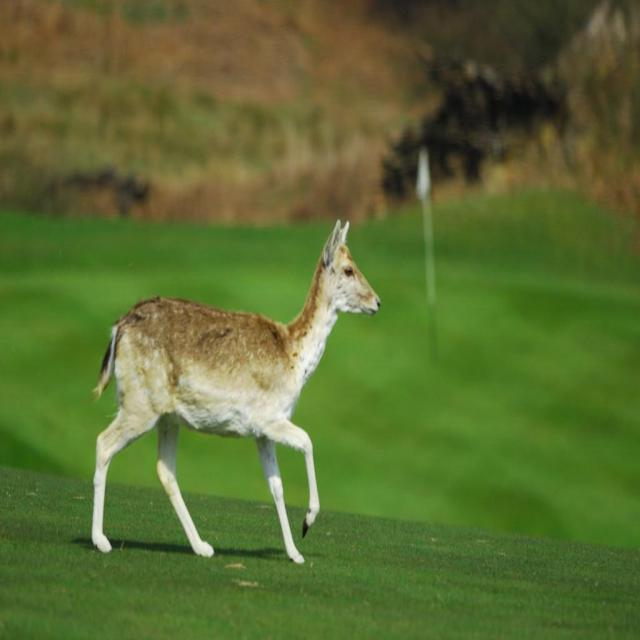Deer: (87, 219, 377, 563)
